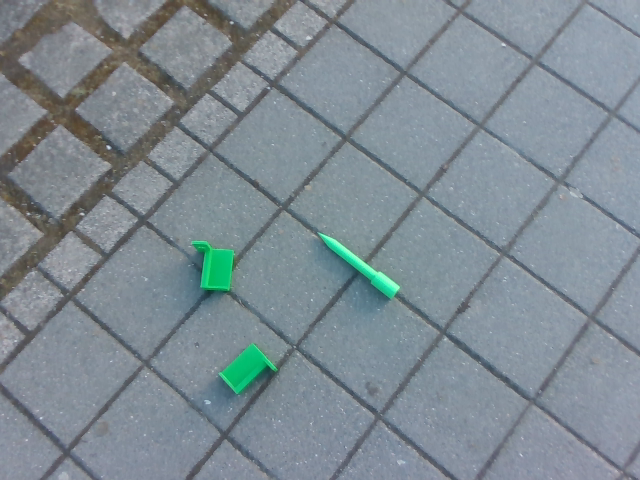Probe: (312, 227, 401, 299)
